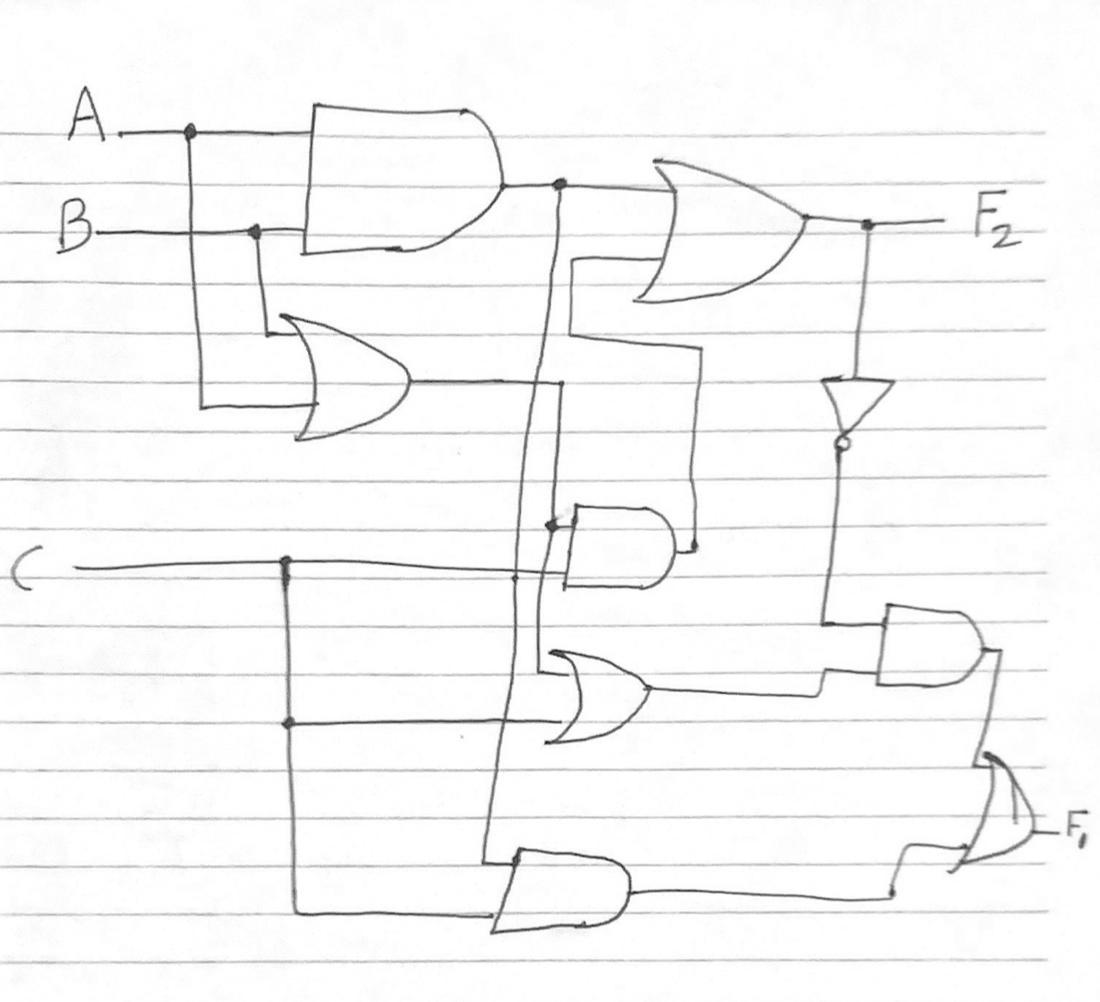AND: (290, 80, 519, 270), (485, 830, 664, 942), (868, 578, 993, 708), (560, 494, 687, 603)
NOT: (794, 346, 911, 461)
OR: (624, 144, 829, 315), (272, 296, 435, 466), (544, 638, 691, 766), (943, 744, 1060, 889)
